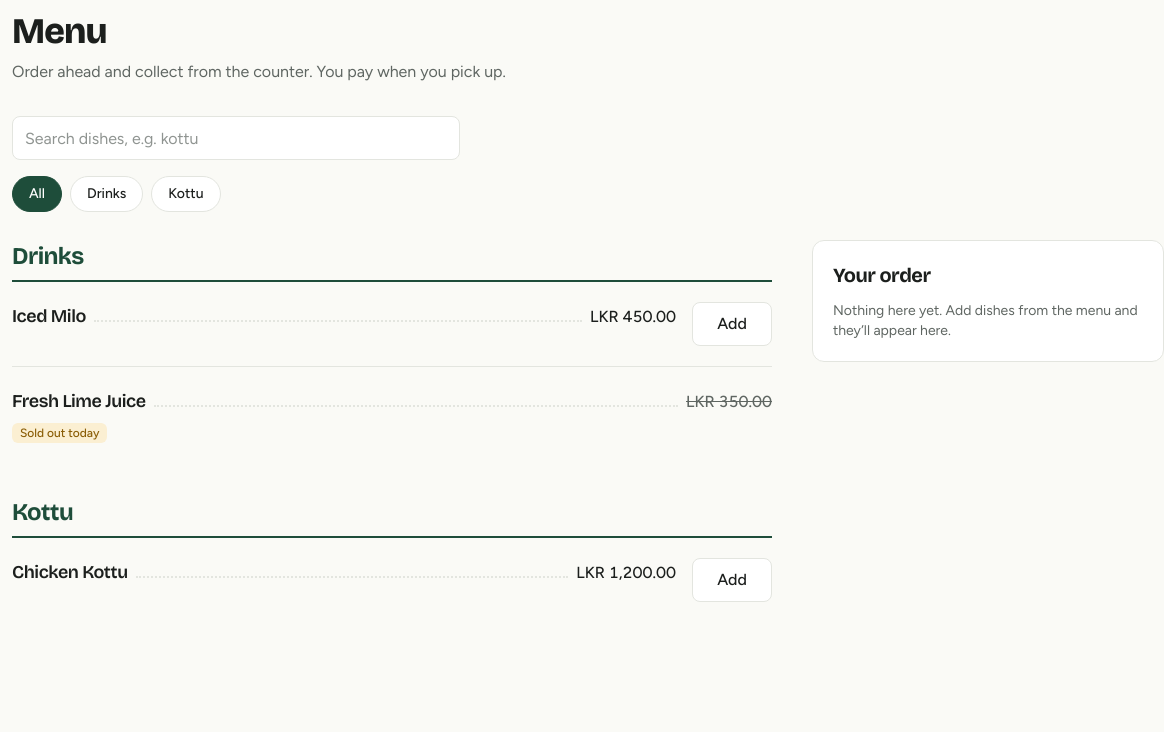
Test case: MenuPage › filters by category
Expected: the heading "Iced Milo" is shown, top-left (12, 302), bottom-right (86, 330)
Click the button "Kottu" at coordinates (186, 194), box top-left (151, 176), bottom-right (221, 212)
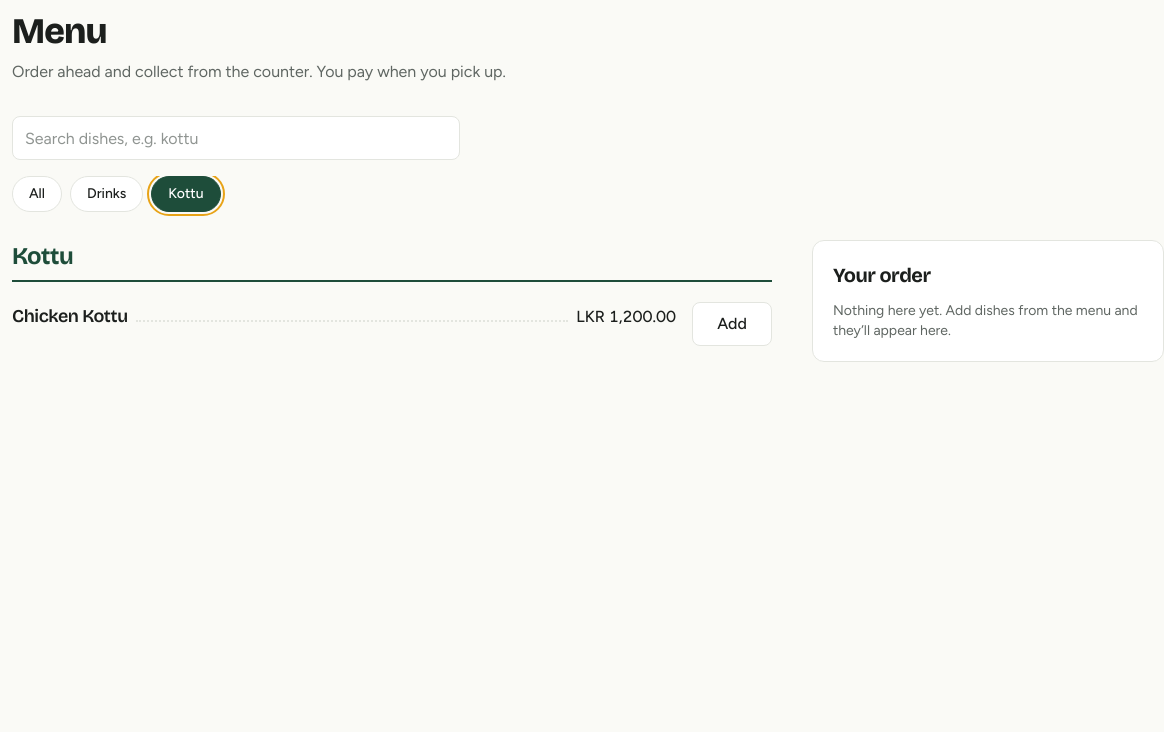
Expected: the heading "Chicken Kottu" is shown, top-left (12, 302), bottom-right (128, 330)
Result: the heading "Iced Milo" is gone
